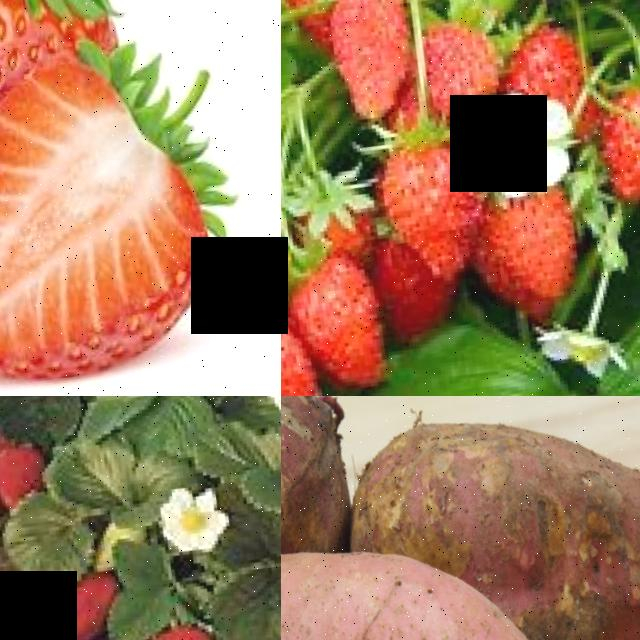strawberry: (0, 29, 277, 396), (378, 131, 500, 278), (299, 242, 410, 396), (313, 0, 434, 126), (482, 176, 595, 309), (416, 7, 513, 113), (0, 0, 132, 65), (20, 579, 118, 640), (281, 313, 342, 396), (142, 612, 239, 640)
sweet potato: (472, 396, 640, 640), (281, 497, 551, 640), (281, 396, 375, 579)
